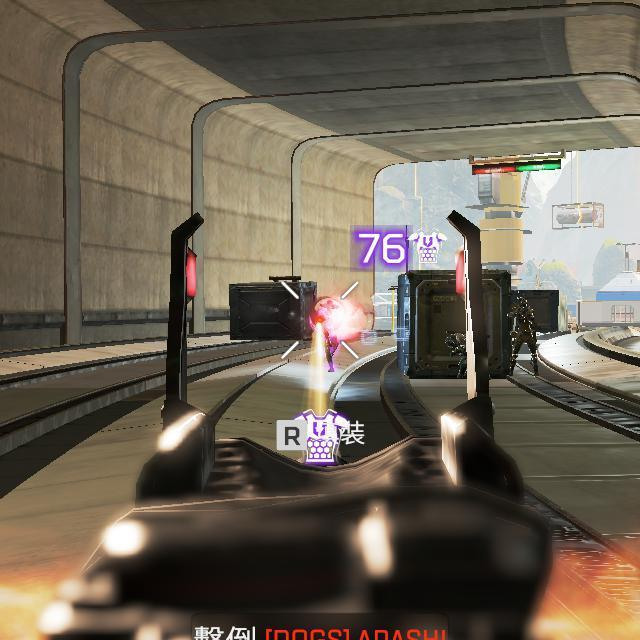avatar: (504, 290, 542, 380)
